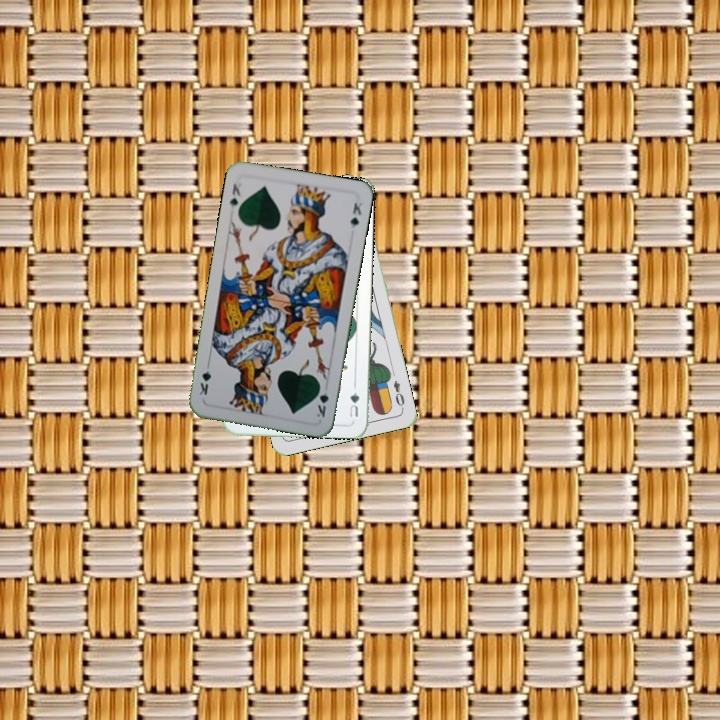EO: (389, 376, 407, 412)
GK: (313, 380, 331, 420), (226, 179, 244, 215)
GU: (345, 388, 362, 419)
